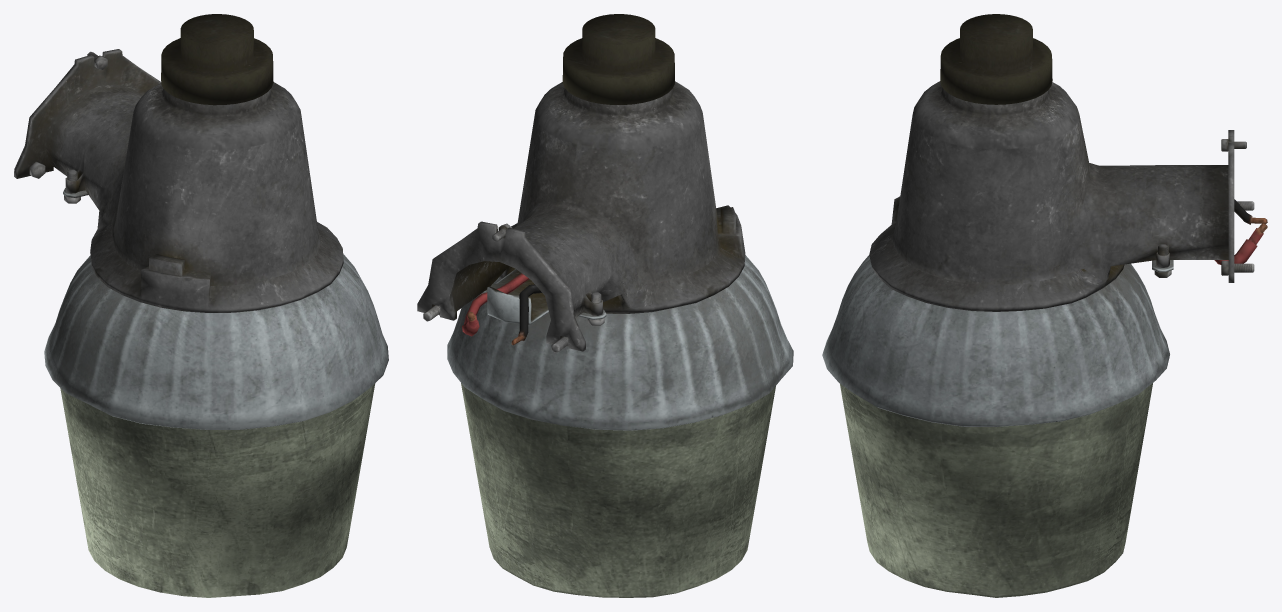
Rendered from security_light.glb.
3 views of the same model, side by side, from view 1: azimuth 30°, elevation 25°; view 2: azimuth 150°, elevation 25°; view 3: azimuth 270°, elevation 25° (orthographic).
Visible parts, largest first — view 1: security_light; view 2: security_light; view 3: security_light.
Boxes of the visible parts, left/top/right/bottom form: security_light: left=14, top=14, right=388, bottom=597; security_light: left=417, top=14, right=793, bottom=597; security_light: left=822, top=14, right=1267, bottom=597.
Size of the model in its own units: 0.3231 by 0.531 by 0.4172.
Materials: 3 (3 with a texture image).
